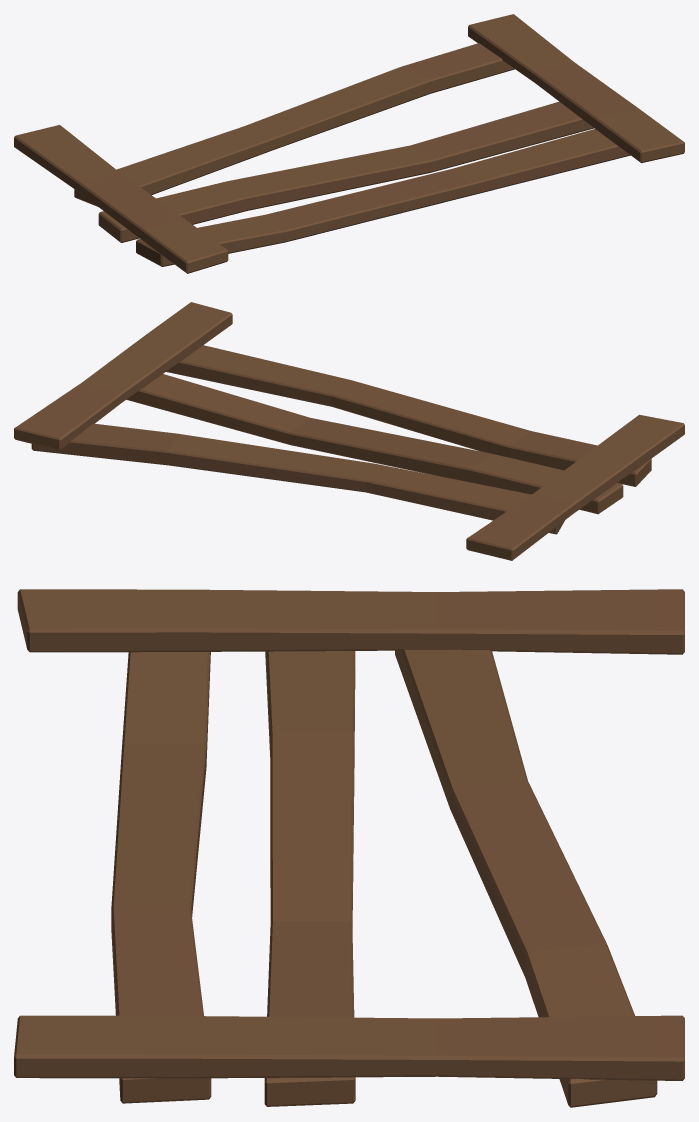
The model's file is Barrier_05b.fbx.
3 views of the same model, one above another, from view 1: azimuth 30°, elevation 25°; view 2: azimuth 150°, elevation 25°; view 3: azimuth 270°, elevation 25° (orthographic). The views are drawn at different scales.
Parts seen in each view (by area): view 1: Barriere_5.0_LOW.003; view 2: Barriere_5.0_LOW.003; view 3: Barriere_5.0_LOW.003.
Part boxes in pixels (x1,y1,x2,y2): Barriere_5.0_LOW.003: (14, 14, 684, 273); Barriere_5.0_LOW.003: (14, 302, 684, 560); Barriere_5.0_LOW.003: (14, 589, 684, 1107).
Size of the model in its own units: 153 by 10.07 by 91.67.
